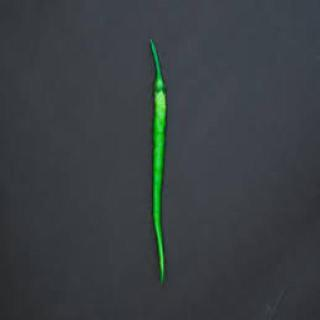Cabai Hijau: (154, 86, 170, 284)
